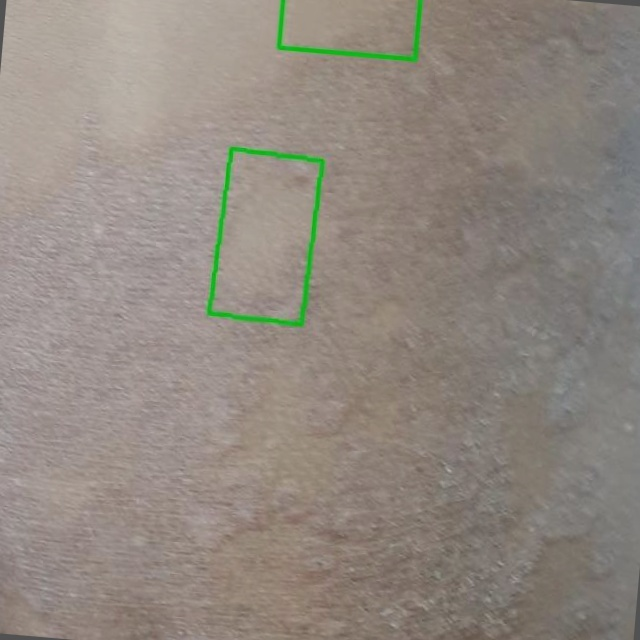Tinea Corporis: (210, 149, 322, 325), (278, 0, 420, 59)
